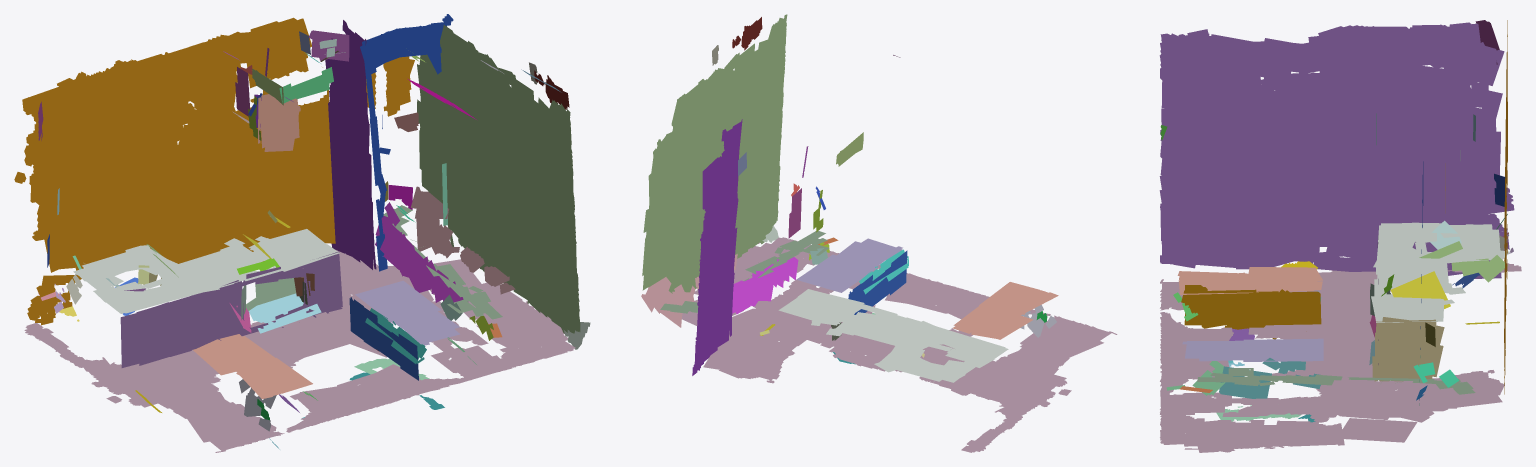
File: 45b0dac5e3_simple.glb
The picture shows the model from 3 angles, left to right: view 1: azimuth 30°, elevation 25°; view 2: azimuth 150°, elevation 25°; view 3: azimuth 270°, elevation 25°; orthographic projection. The views are drawn at different scales.
Bounding box in the file's own units: 3.25 × 2.27 × 2.37.
